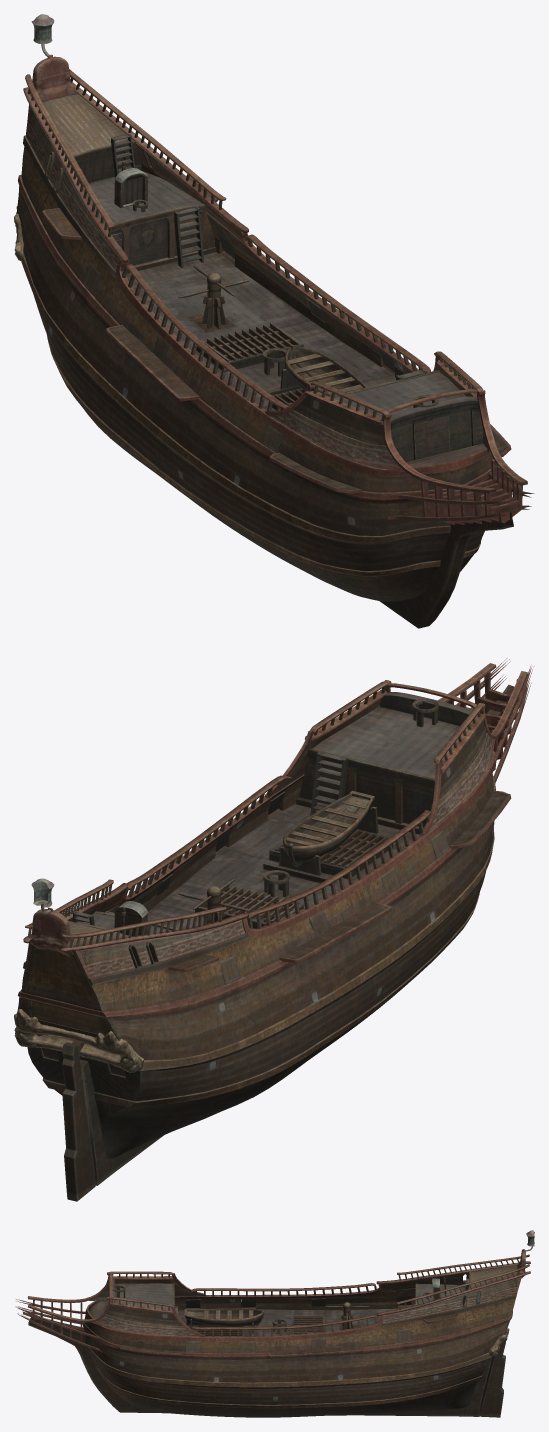
File: brig-lite.glb
3 renders of one model, top to bottom at view 1: azimuth 30°, elevation 25°; view 2: azimuth 150°, elevation 25°; view 3: azimuth 270°, elevation 25°, orthographic. The views are drawn at different scales.
Parts seen in each view (by area): view 1: dutch_ship_medium_hull_dutch_ship_medium_hull_0; view 2: dutch_ship_medium_hull_dutch_ship_medium_hull_0; view 3: dutch_ship_medium_hull_dutch_ship_medium_hull_0.
Boxes of the visible parts, x1,y1,x2,y2 form: dutch_ship_medium_hull_dutch_ship_medium_hull_0: [14, 14, 534, 628]; dutch_ship_medium_hull_dutch_ship_medium_hull_0: [14, 658, 532, 1201]; dutch_ship_medium_hull_dutch_ship_medium_hull_0: [15, 1230, 534, 1417].
Size of the model in its own units: 5.2 by 7.97 by 20.25.
Materials: 1 (1 with a texture image).
